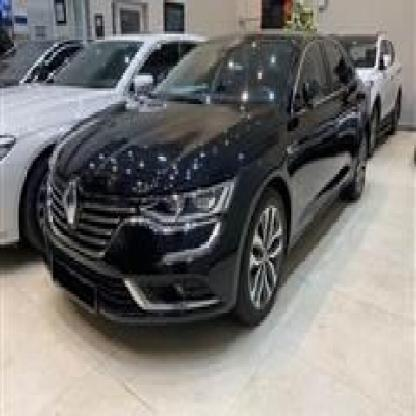Car: (27, 24, 372, 336), (0, 18, 206, 234), (322, 13, 413, 135)
